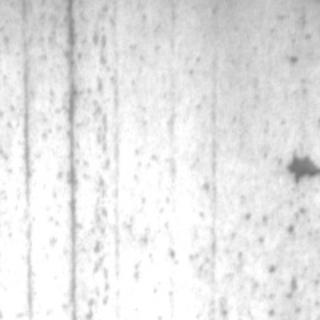inclusion: (280, 146, 318, 184)
pitted_surface: (75, 3, 163, 315), (181, 180, 317, 318)
